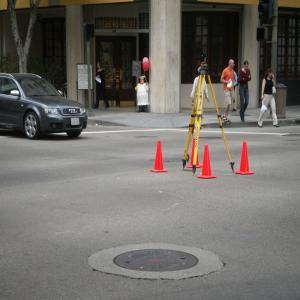Vehicle-registration-plate: (71, 119, 81, 126)
